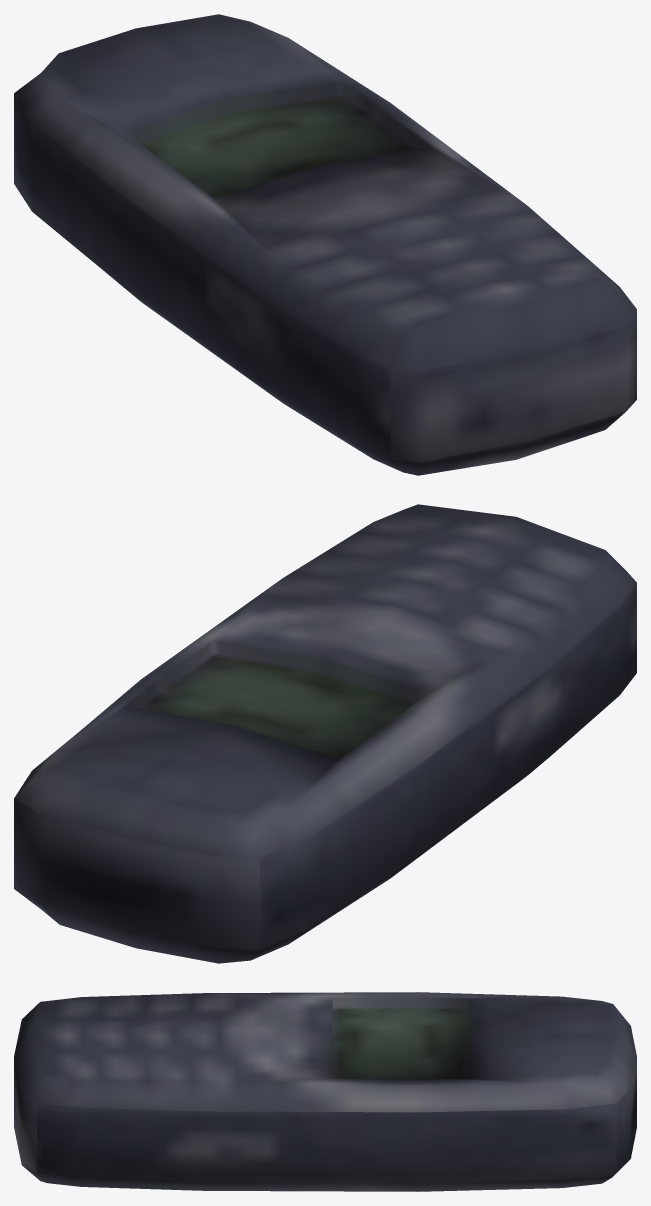
Rendered from cell_phone_2.obj.
The picture shows the model from 3 angles, top to bottom: view 1: azimuth 30°, elevation 25°; view 2: azimuth 150°, elevation 25°; view 3: azimuth 270°, elevation 25°; orthographic projection. The views are drawn at different scales.
Visible parts, largest first — view 1: cell_phone_2; view 2: cell_phone_2; view 3: cell_phone_2.
Boxes of the visible parts, x1=… form: cell_phone_2: x1=14, y1=14, x2=636, y2=475; cell_phone_2: x1=14, y1=504, x2=636, y2=963; cell_phone_2: x1=14, y1=992, x2=636, y2=1191.
Size of the model in its own units: 0.0877 by 0.0437 by 0.2106.
